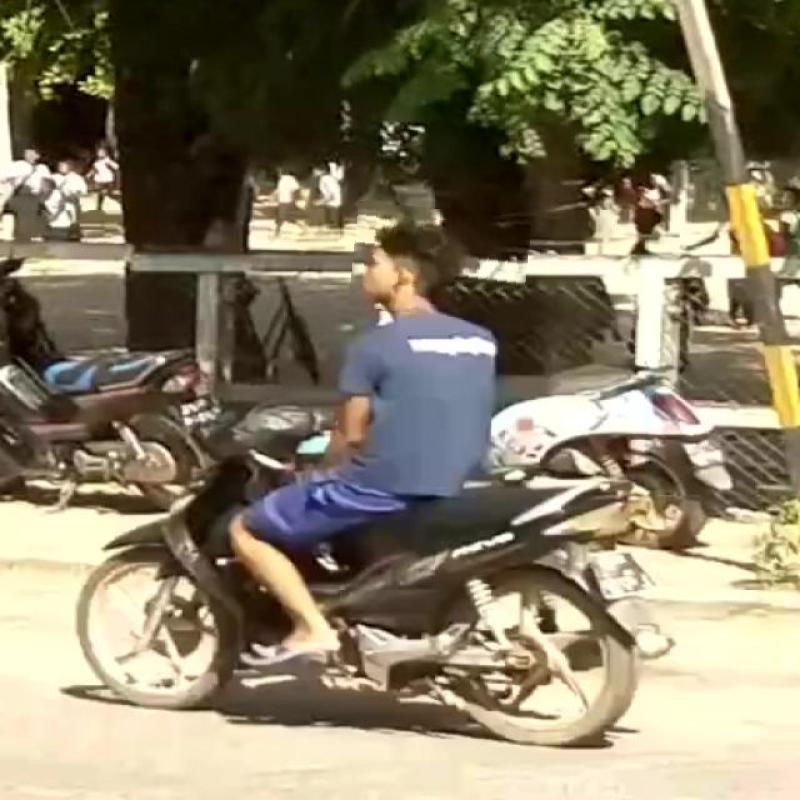nohelmet: (351, 206, 530, 320)
